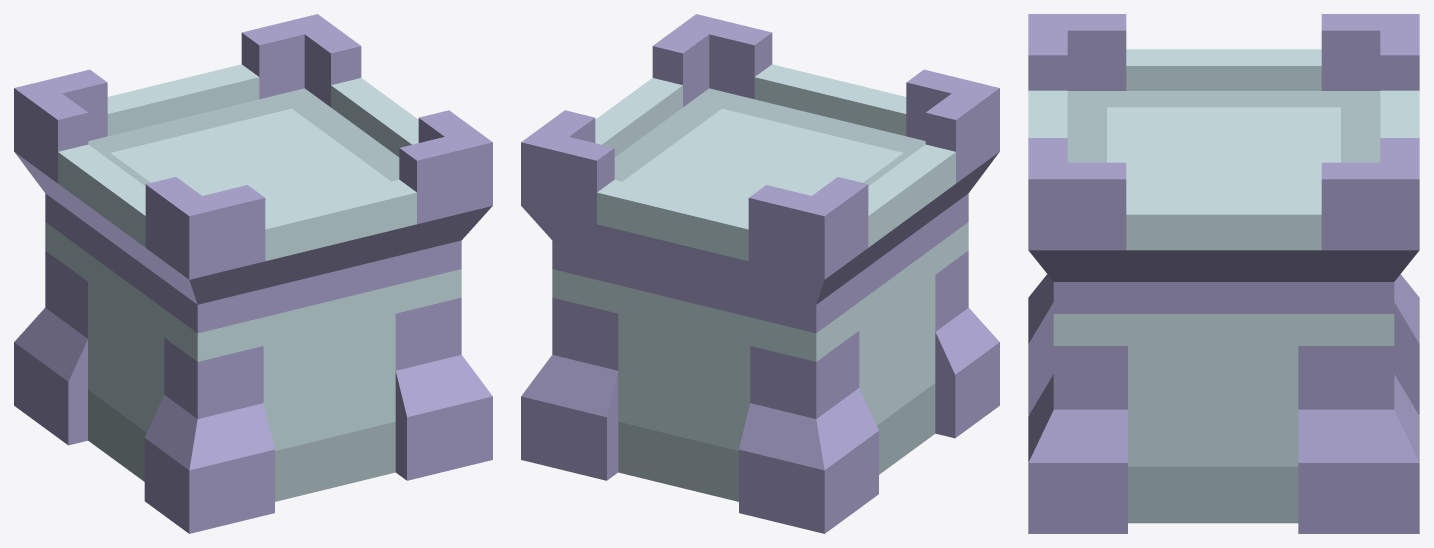
File: towerSquare_sampleE.glb
The picture shows the model from 3 angles, left to right: view 1: azimuth 30°, elevation 25°; view 2: azimuth 150°, elevation 25°; view 3: azimuth 270°, elevation 25°; orthographic projection. The views are drawn at different scales.
Visible parts, largest first — view 1: towerSquare_sampleE; view 2: towerSquare_sampleE; view 3: towerSquare_sampleE.
Part boxes in pixels (x1=…): towerSquare_sampleE: x1=14, y1=14, x2=492, y2=533; towerSquare_sampleE: x1=521, y1=14, x2=999, y2=533; towerSquare_sampleE: x1=1028, y1=14, x2=1419, y2=533.
Size of the model in its own units: 1 by 1 by 1.
